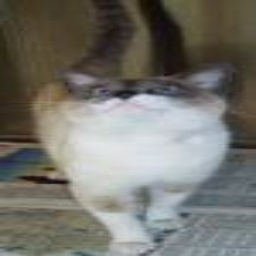cat: (34, 1, 229, 256)
